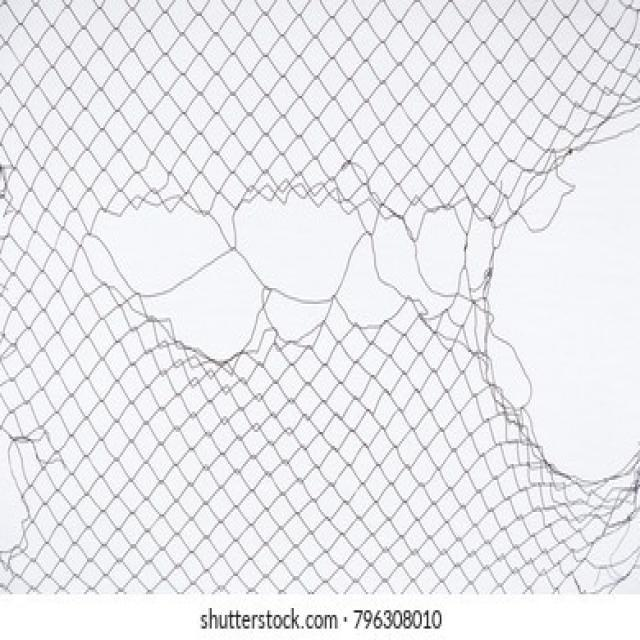fence line: (83, 194, 463, 329), (508, 152, 635, 474)
